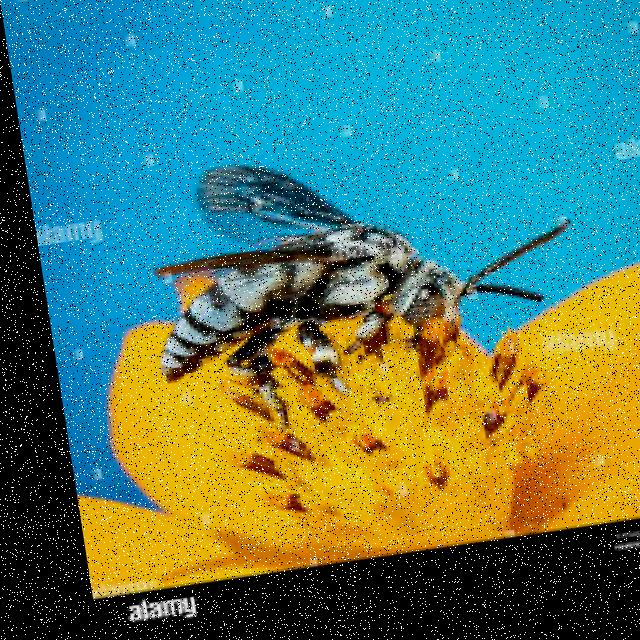Thyreus: (89, 130, 546, 418)
